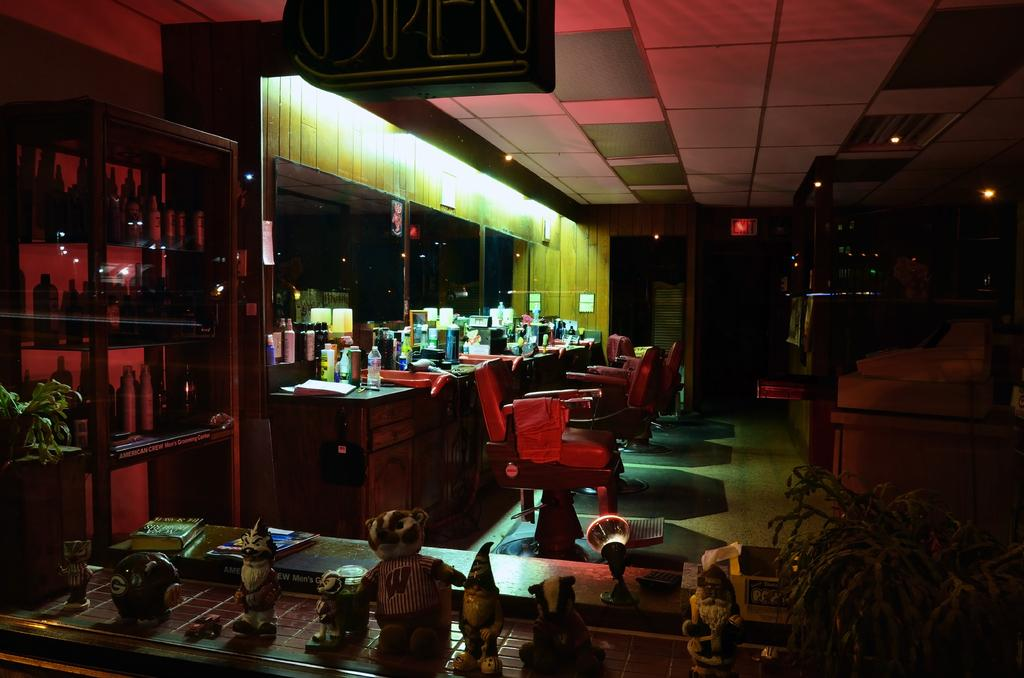Chair: (474, 362, 618, 560), (544, 348, 662, 496), (604, 343, 682, 458), (610, 330, 660, 428)
